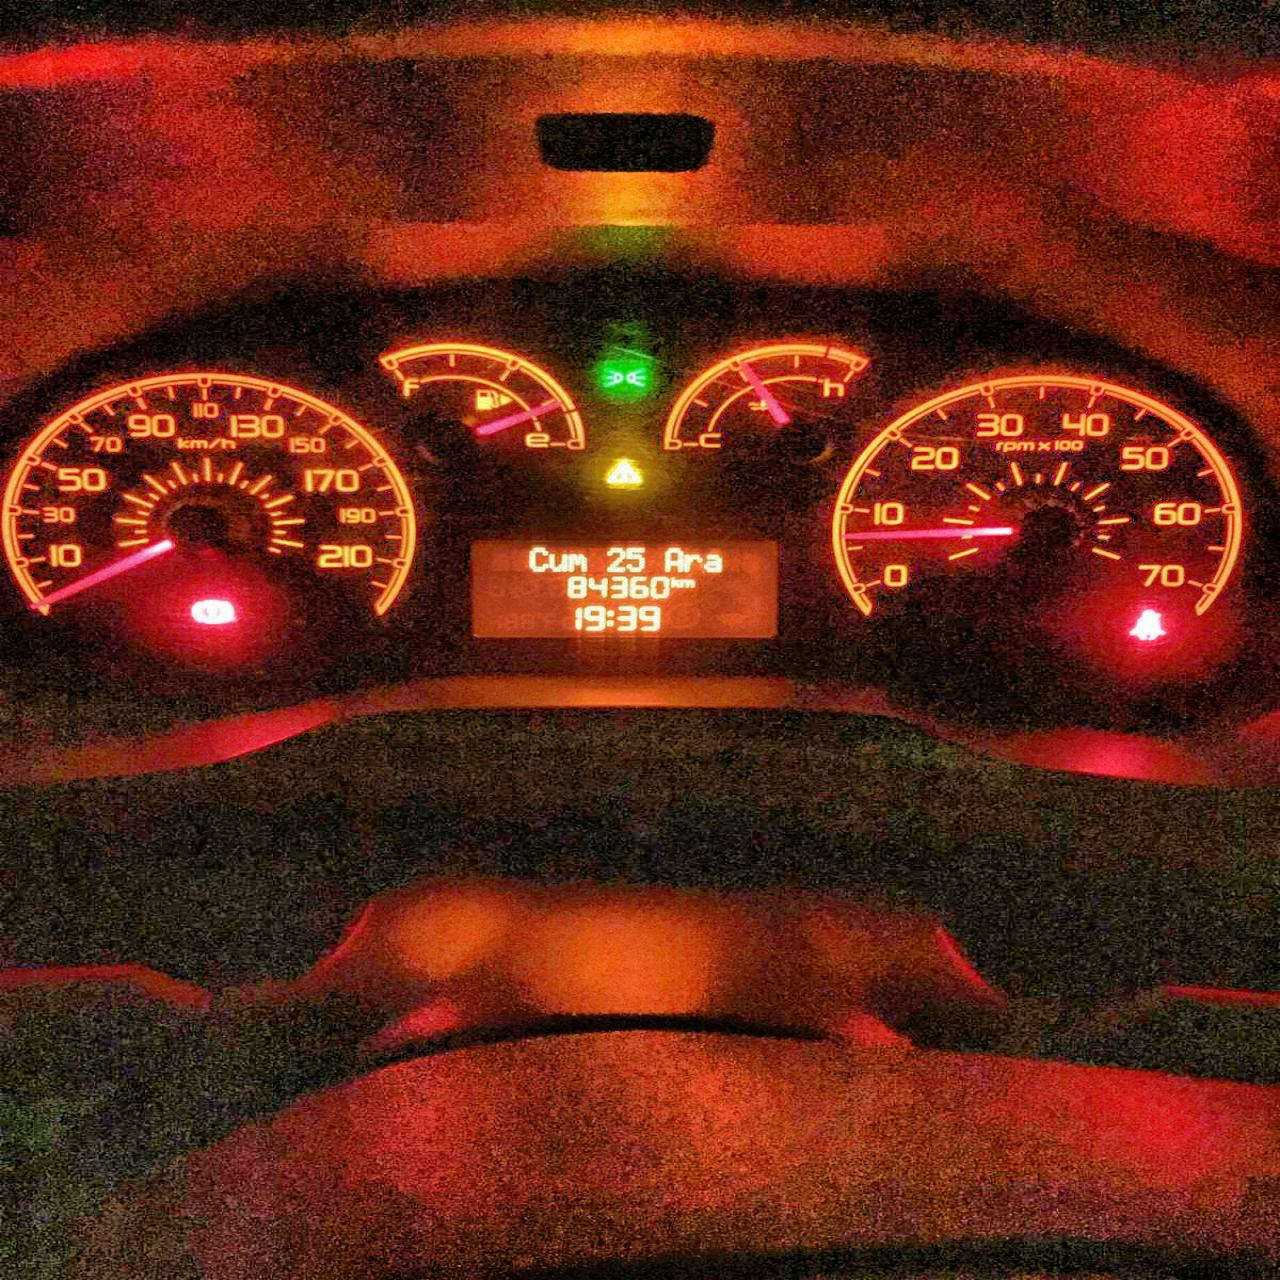0: (649, 576, 668, 599)
1: (573, 605, 584, 629)
2: (605, 546, 625, 573)
3: (617, 602, 636, 632), (610, 574, 628, 599)
4: (586, 576, 607, 598)
5: (625, 545, 646, 573)
6: (629, 574, 649, 600)
8: (566, 574, 587, 599)
9: (638, 602, 661, 632), (584, 604, 606, 631)
X: (526, 547, 550, 571), (662, 546, 682, 572), (549, 551, 567, 573), (567, 551, 586, 572), (682, 553, 701, 573), (704, 552, 722, 573), (681, 577, 697, 590), (607, 608, 615, 628), (669, 576, 680, 588)
odometer: (461, 536, 781, 642)
